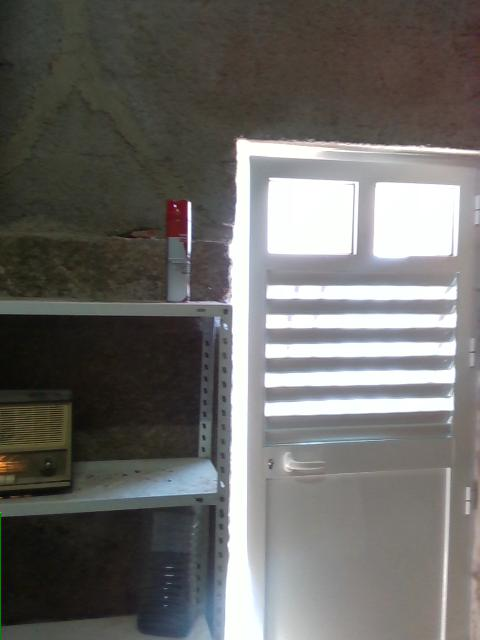door: (217, 138, 479, 639)
